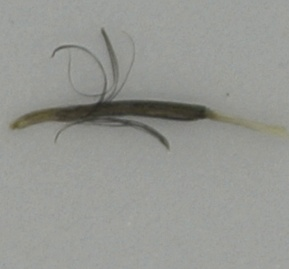เมล้ดปลายพู่กัน: (8, 26, 289, 150)
